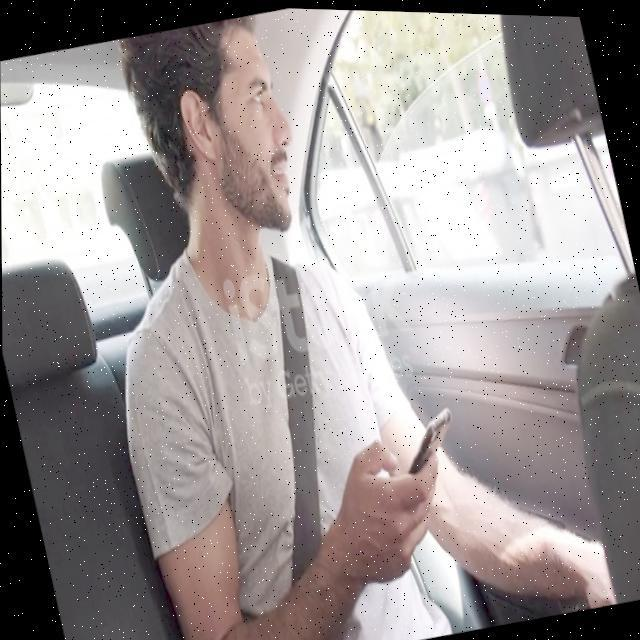PhoneCall: (387, 402, 468, 491)
